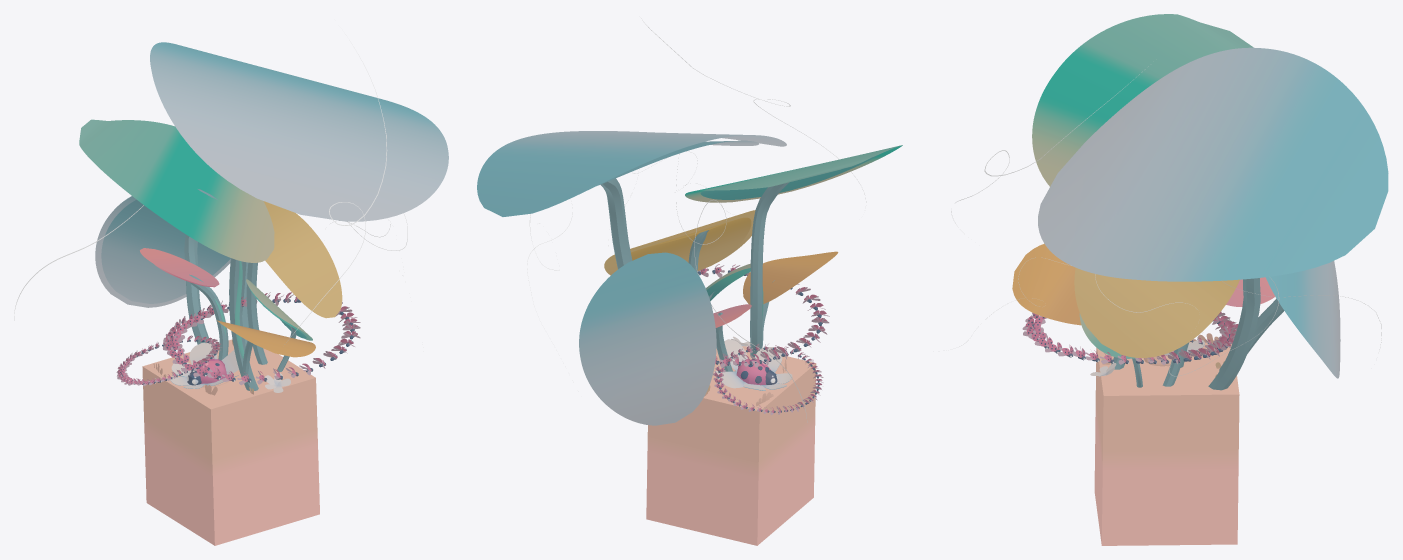
Rendered from ladybug.glb.
The picture shows the model from 3 angles, left to right: view 1: azimuth 30°, elevation 25°; view 2: azimuth 150°, elevation 25°; view 3: azimuth 270°, elevation 25°; orthographic projection. The views are drawn at different scales.
Parts seen in each view (by area): view 1: NewLayer0_0000; view 2: NewLayer0_0000; view 3: NewLayer0_0000.
Boxes of the visible parts, x1,y1,x2,y2 form: NewLayer0_0000: [14, 34, 448, 545]; NewLayer0_0000: [477, 18, 902, 545]; NewLayer0_0000: [951, 14, 1388, 545].
Bounding box in the file's own units: 1.36 × 1.69 × 1.36.
